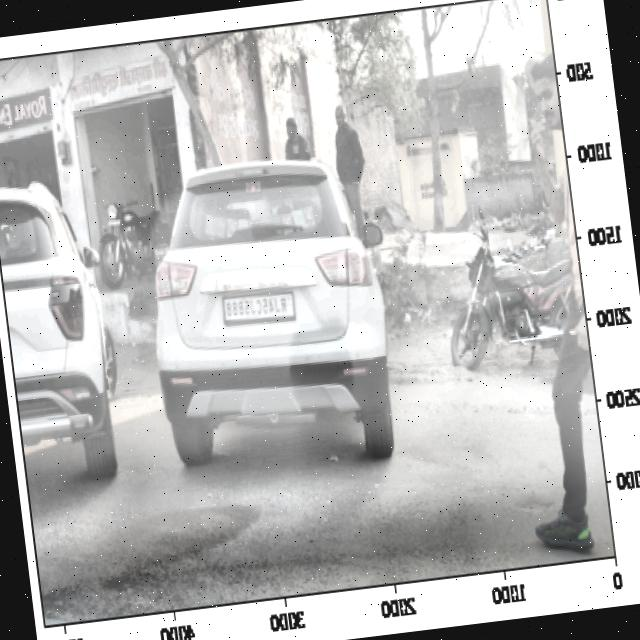license_plate: (218, 290, 290, 324)
